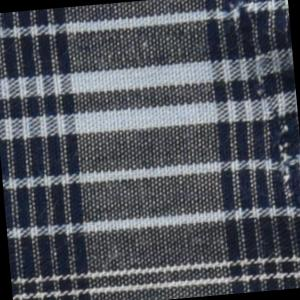Damage: (220, 1, 300, 233)
